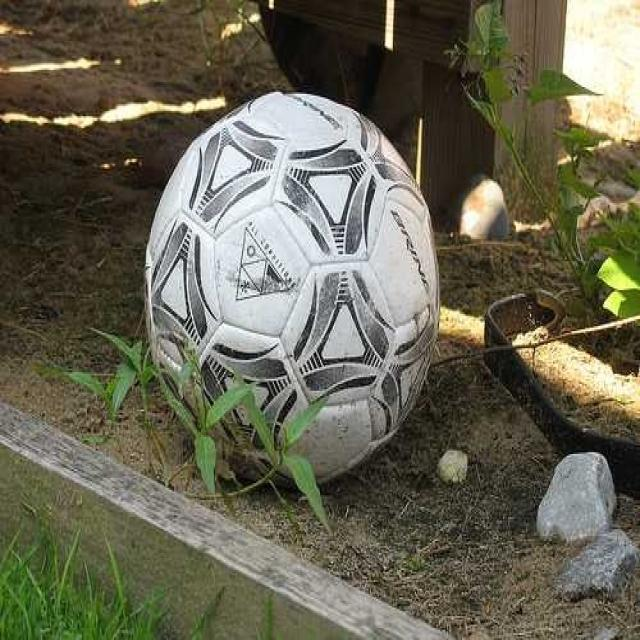ball: (144, 90, 440, 488)
